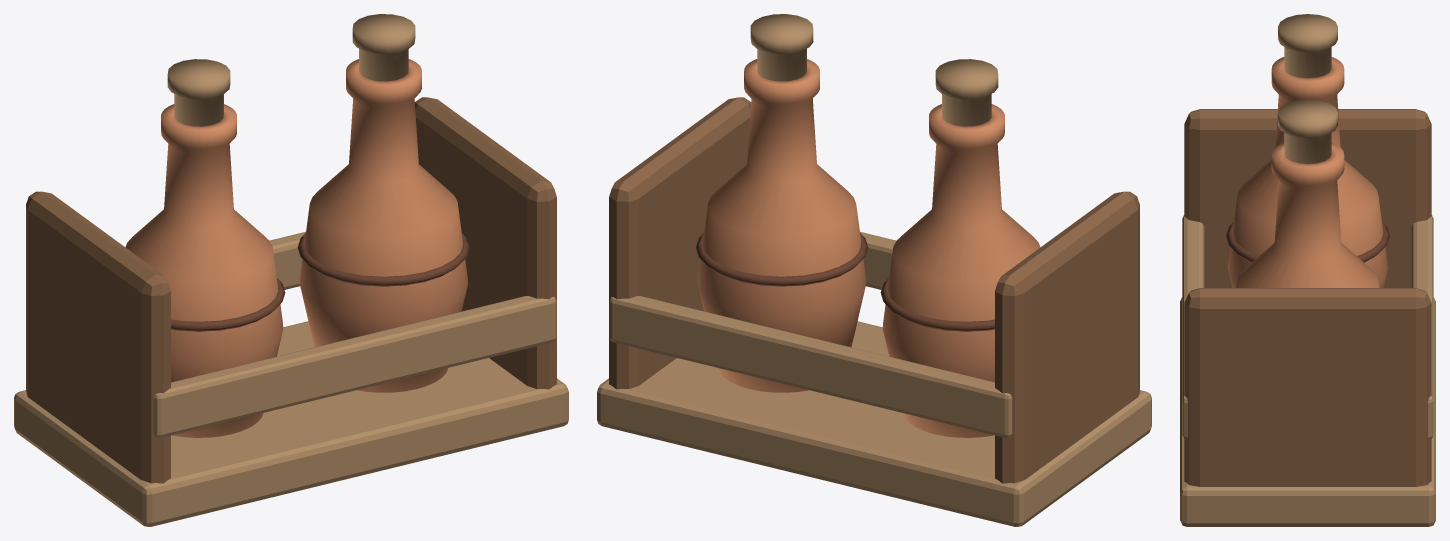
Rendered from oil-flask-stand.glb.
3 views of the same model, side by side, from view 1: azimuth 30°, elevation 25°; view 2: azimuth 150°, elevation 25°; view 3: azimuth 270°, elevation 25° (orthographic). The views are drawn at different scales.
Parts seen in each view (by area): view 1: oil-flask-stand__woodlight, oil-flask-stand__clay, oil-flask-stand__wood, oil-flask-stand__slip; view 2: oil-flask-stand__woodlight, oil-flask-stand__clay, oil-flask-stand__wood, oil-flask-stand__slip; view 3: oil-flask-stand__wood, oil-flask-stand__woodlight, oil-flask-stand__clay, oil-flask-stand__slip.
Part boxes in pixels (box(x1,y1,x2,y2)): oil-flask-stand__woodlight: box(14, 14, 568, 526); oil-flask-stand__clay: box(125, 59, 468, 437); oil-flask-stand__wood: box(26, 97, 556, 483); oil-flask-stand__slip: box(171, 233, 470, 331); oil-flask-stand__woodlight: box(597, 14, 1151, 526); oil-flask-stand__clay: box(697, 59, 1040, 437); oil-flask-stand__wood: box(609, 97, 1139, 483); oil-flask-stand__slip: box(695, 233, 994, 331); oil-flask-stand__wood: box(1184, 109, 1431, 486); oil-flask-stand__woodlight: box(1180, 14, 1435, 526); oil-flask-stand__clay: box(1227, 57, 1388, 287); oil-flask-stand__slip: box(1226, 222, 1389, 262).
Bounding box in the file's own units: 0.53 × 0.452 × 0.29.
